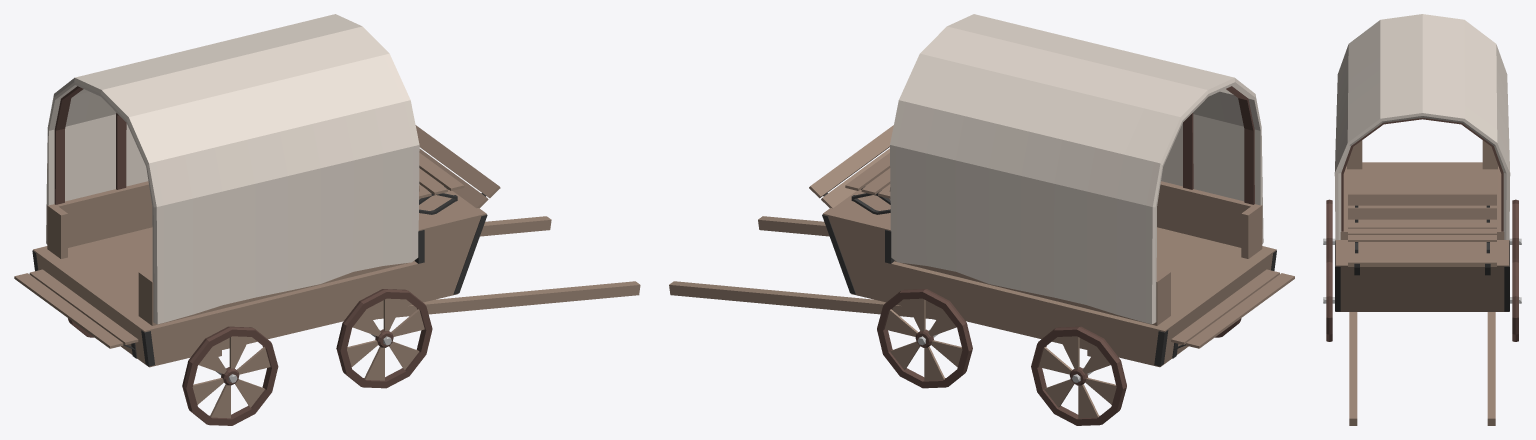
The model's file is Cart.glb.
The picture shows the model from 3 angles, left to right: view 1: azimuth 30°, elevation 25°; view 2: azimuth 150°, elevation 25°; view 3: azimuth 270°, elevation 25°; orthographic projection. The views are drawn at different scales.
Parts seen in each view (by area): view 1: RoofFabric, BodyWood, SidesWood, SeatWood, WheelBL, WheelFL, Cube, RoofWood, BodyMetal; view 2: RoofFabric, BodyWood, SidesWood, SeatWood, WheelFR, WheelBR, Cube, RoofWood, BodyMetal; view 3: RoofFabric, BodyWood, SeatWood, Cube, SidesWood, RoofWood, BodyMetal, WheelBL, WheelBR, WheelFR, WheelFL, SeatMetal.
Boxes of the visible parts, <box> form: RoofFabric: <box>46,14,419,324</box>; BodyWood: <box>33,168,486,367</box>; SidesWood: <box>47,181,414,325</box>; SeatWood: <box>14,125,500,348</box>; WheelBL: <box>336,289,432,388</box>; WheelFL: <box>182,326,278,425</box>; Cube: <box>370,216,640,319</box>; RoofWood: <box>54,86,126,204</box>; BodyMetal: <box>32,214,487,366</box>; RoofFabric: <box>890,14,1263,324</box>; BodyWood: <box>823,168,1276,367</box>; SidesWood: <box>895,181,1262,325</box>; SeatWood: <box>809,125,1294,348</box>; WheelFR: <box>1031,326,1126,425</box>; WheelBR: <box>877,289,972,388</box>; Cube: <box>669,216,939,319</box>; RoofWood: <box>1183,86,1254,204</box>; BodyMetal: <box>822,214,1276,366</box>; RoofFabric: <box>1334,14,1510,240</box>; BodyWood: <box>1335,162,1509,311</box>; SeatWood: <box>1348,193,1496,266</box>; Cube: <box>1349,312,1495,425</box>; SidesWood: <box>1340,140,1504,239</box>; RoofWood: <box>1341,118,1503,231</box>; BodyMetal: <box>1335,240,1509,311</box>; WheelBL: <box>1326,258,1332,341</box>; WheelBR: <box>1512,258,1518,341</box>; WheelFR: <box>1512,199,1518,258</box>; WheelFL: <box>1326,199,1332,258</box>; SeatMetal: <box>1354,205,1490,275</box>.
Bounding box in the file's own units: 4.33 × 2.4 × 1.8.
